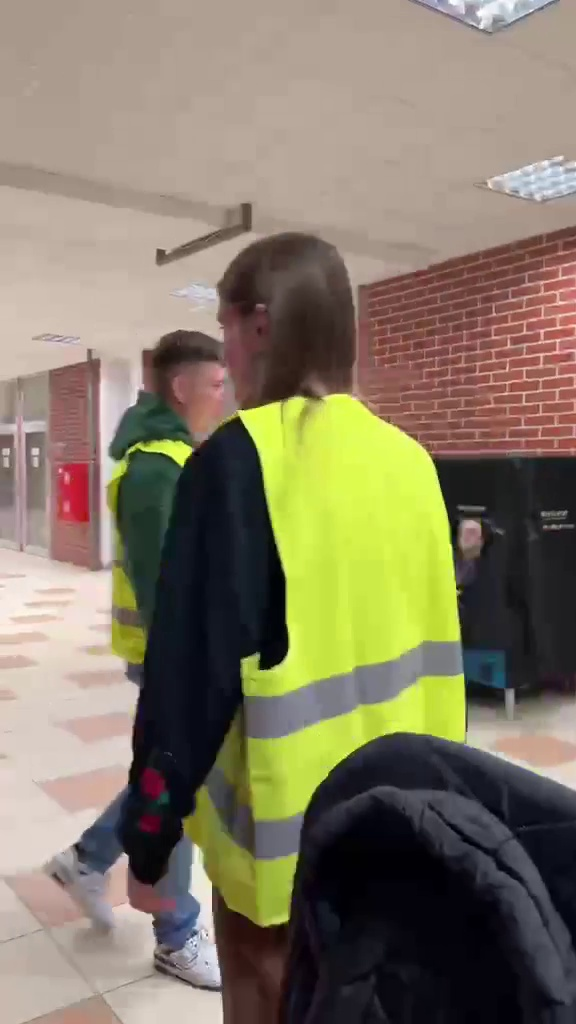vest: (218, 234, 464, 983), (80, 326, 196, 786)
